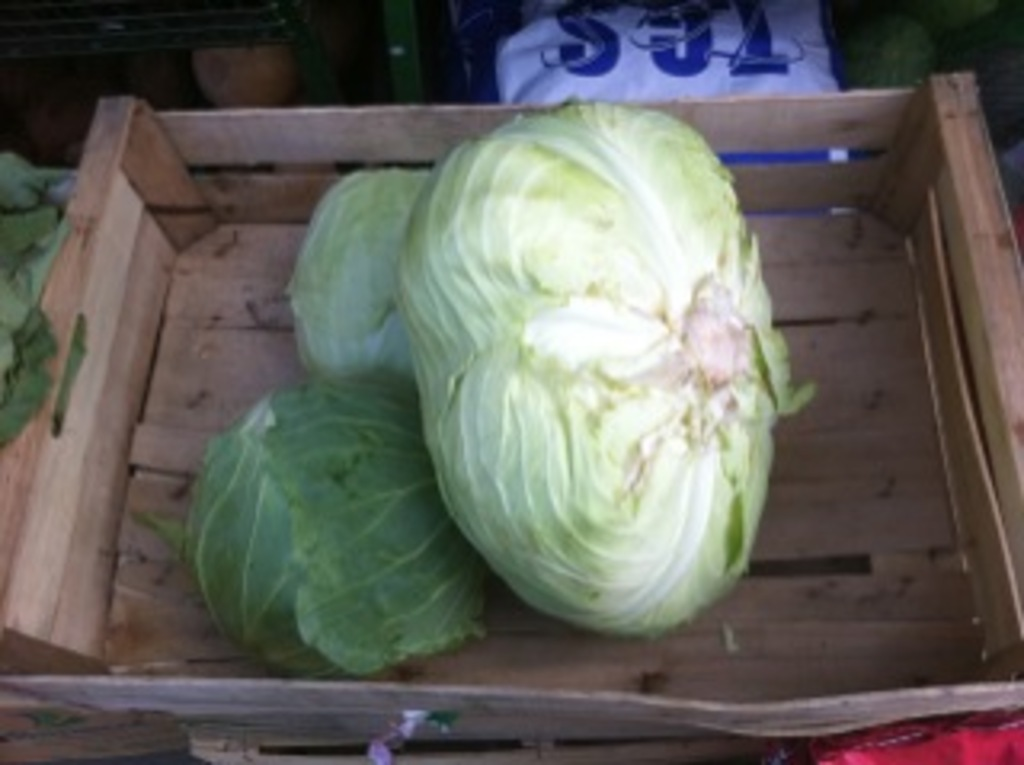Cabbage: (395, 95, 816, 639), (144, 377, 488, 682), (287, 166, 431, 384)
